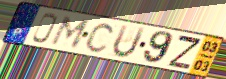0: (31, 12, 59, 44)
9: (142, 30, 176, 66)
C: (84, 21, 117, 54)
M: (49, 14, 93, 49)
U: (111, 23, 148, 60)
Z: (166, 34, 203, 71)
